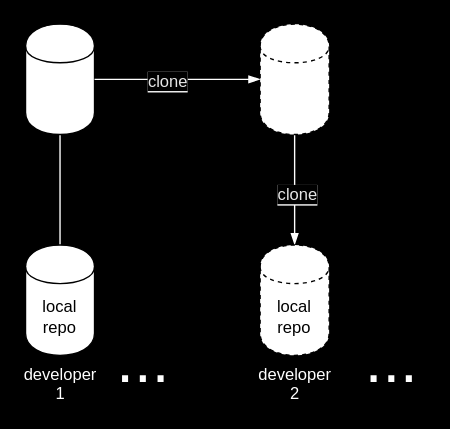
Some shapes in this 450 by 429 pixel diagram are drawn without their labels. Each missing label, with the centre of its shape:
remote repo 1: (59,79)
remote repo 2: (294,79)
